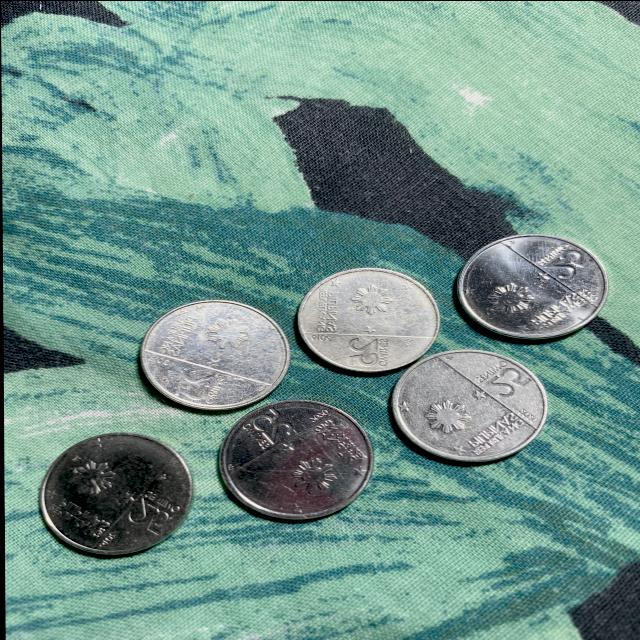25Cent_New_Front: (481, 366, 532, 396), (172, 364, 217, 398), (128, 497, 170, 532), (253, 408, 292, 443), (544, 248, 589, 278), (343, 336, 382, 364)
